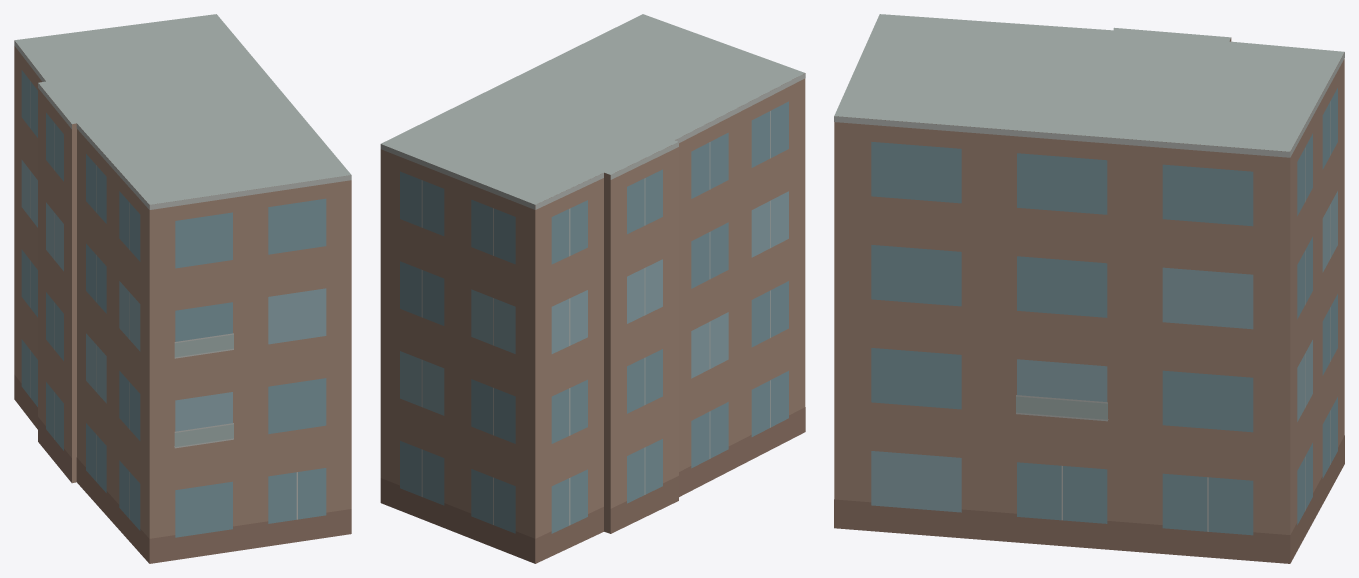
The model's file is survey-upis-32937000.glb.
3 views of the same model, side by side, from view 1: azimuth 30°, elevation 25°; view 2: azimuth 150°, elevation 25°; view 3: azimuth 270°, elevation 25° (orthographic). The views are drawn at different scales.
Parts seen in each view (by area): view 1: survey-upis-32937000.tmp; view 2: survey-upis-32937000.tmp; view 3: survey-upis-32937000.tmp.
Boxes of the visible parts, <box> form: survey-upis-32937000.tmp: <box>14,14,351,563</box>; survey-upis-32937000.tmp: <box>380,14,805,563</box>; survey-upis-32937000.tmp: <box>834,14,1344,563</box>.
Size of the model in its own units: 12.05 by 16.8 by 18.88.
